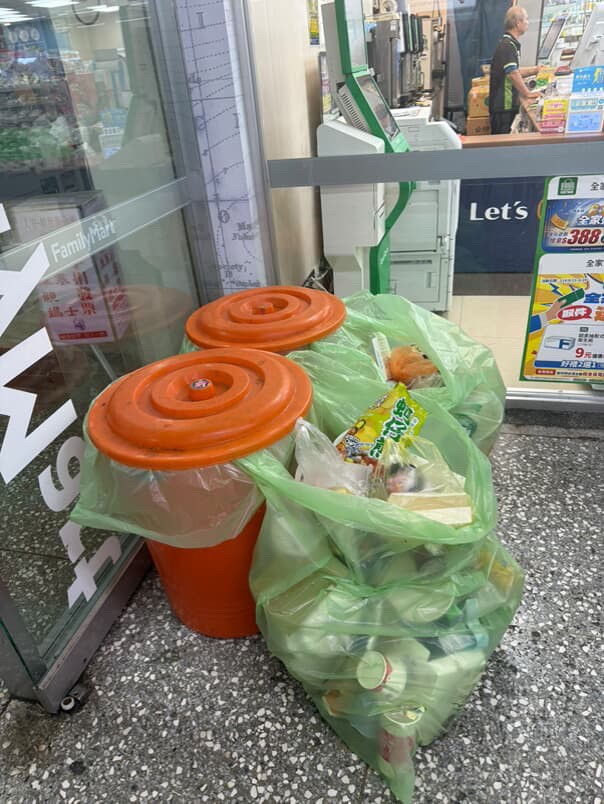overflow_bin: (68, 343, 538, 774)
